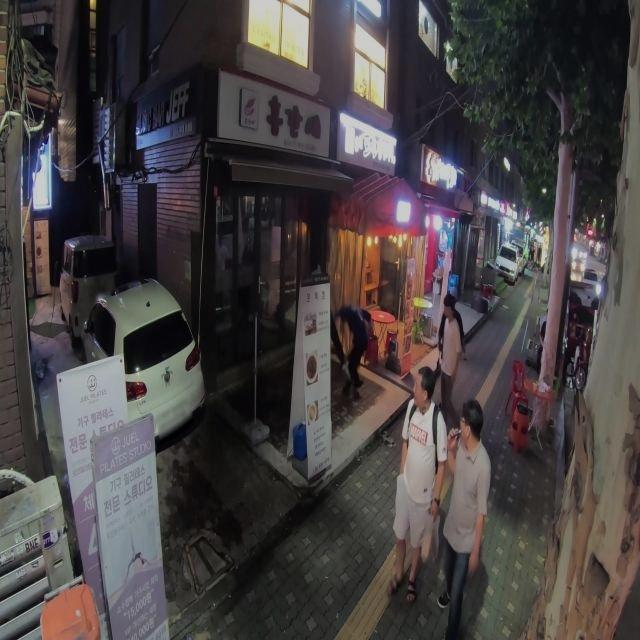fight: (329, 302, 373, 405)
non-fight: (436, 392, 492, 640), (391, 365, 448, 596), (435, 292, 468, 416)
